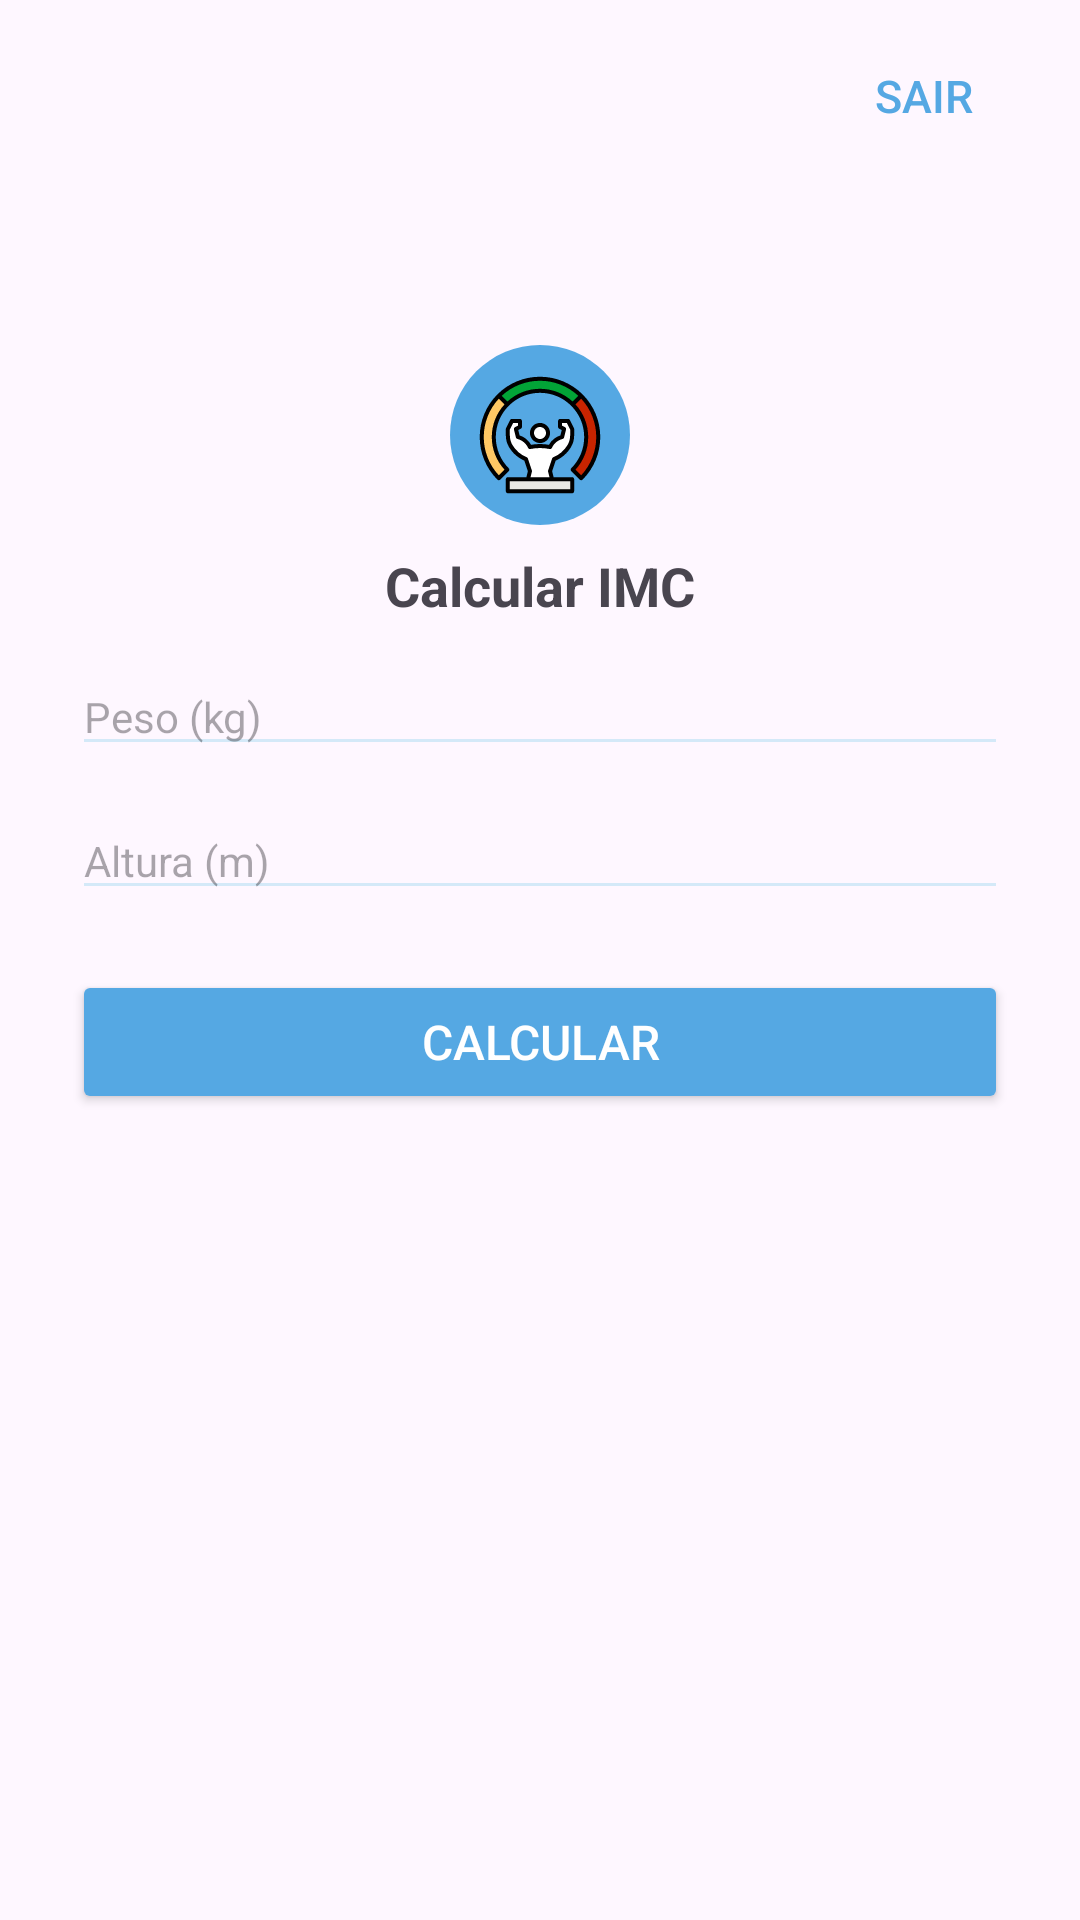

Where icons sit on this 1080x1920 app screen, as (x1, y1, x2, y2):
iconapp: (450, 345, 630, 525)
